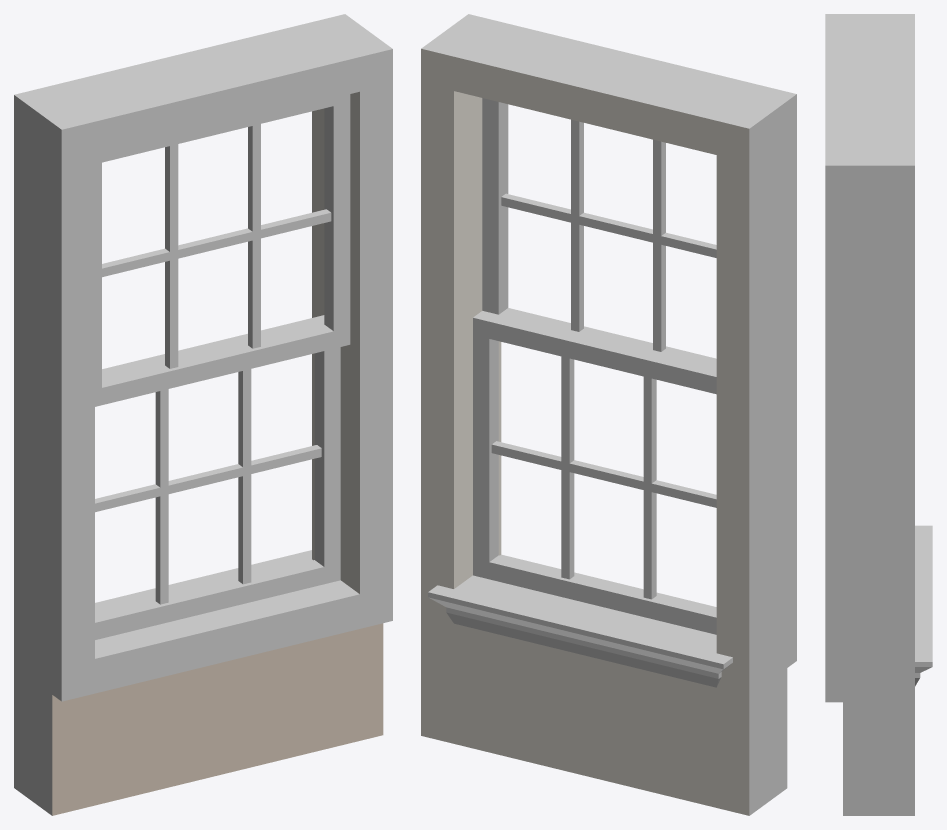
The model's file is Structure_Exterior_Window_Single.fbx.
3 renders of one model, left to right at view 1: azimuth 30°, elevation 25°; view 2: azimuth 150°, elevation 25°; view 3: azimuth 270°, elevation 25°, orthographic. The views are drawn at different scales.
Visible parts, largest first — view 1: object1.076, object2.041, object3.030; view 2: object1.076, object3.030, object2.041; view 3: object1.076.
Part boxes in pixels (<box>): object1.076: <box>14,14,392,815</box>; object2.041: <box>95,94,350,406</box>; object3.030: <box>95,315,340,639</box>; object1.076: <box>421,14,796,815</box>; object3.030: <box>473,311,716,634</box>; object2.041: <box>482,98,716,367</box>; object1.076: <box>825,14,932,815</box>.
Size of the model in its own units: 100 by 200 by 30.
